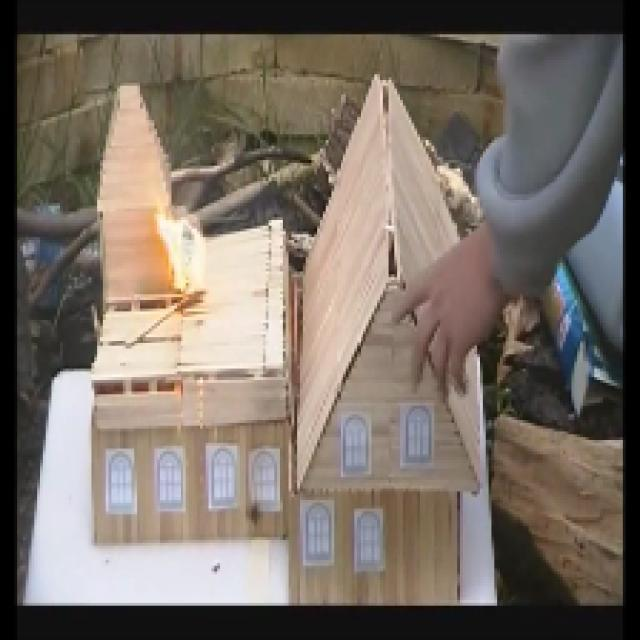Fire: (152, 193, 216, 304)
